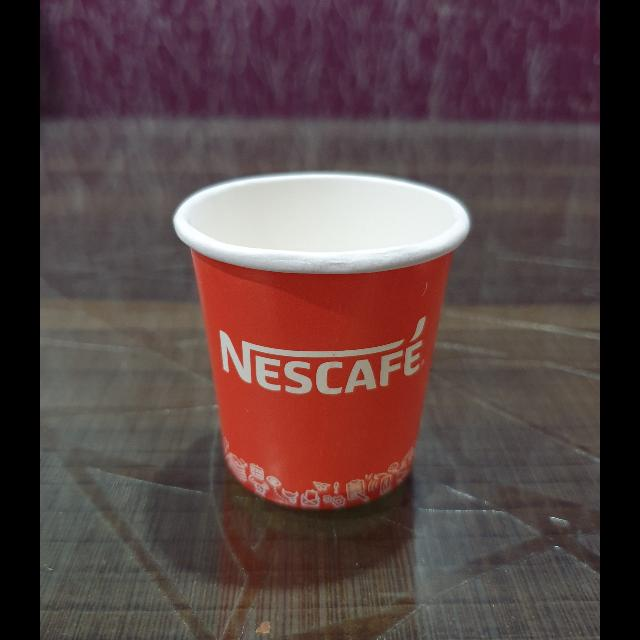trash: (154, 147, 422, 556)
